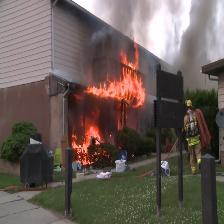fire: (68, 30, 151, 185)
smoke: (91, 0, 224, 78)
